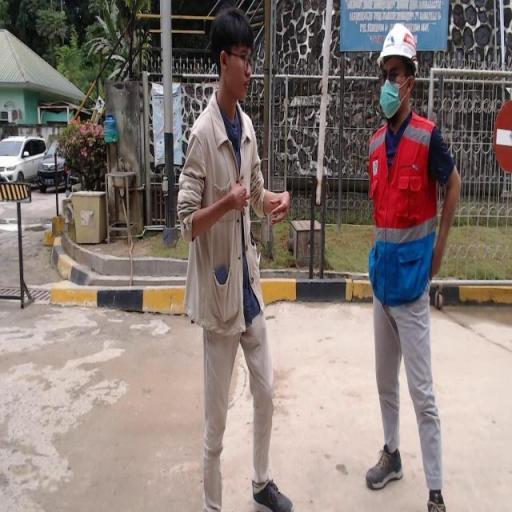Boots: (365, 445, 402, 494), (251, 477, 296, 512)
Helmet: (376, 23, 419, 74)
Person: (168, 5, 307, 512), (336, 14, 468, 512)
